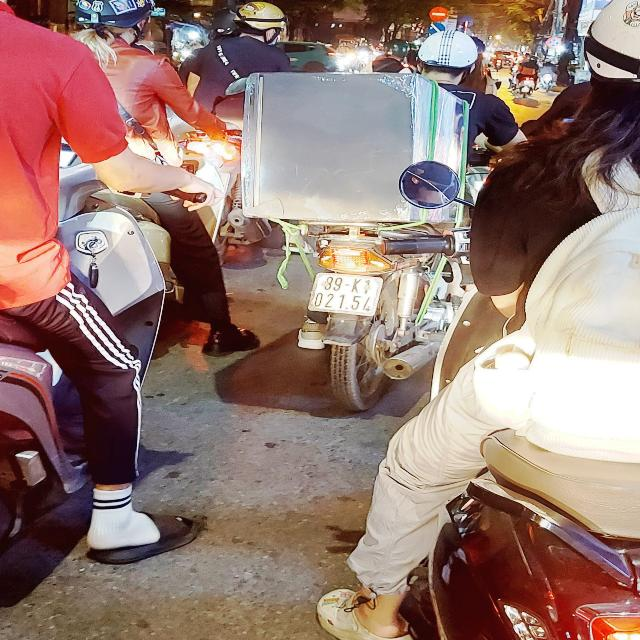license_plate: (307, 273, 385, 318)
